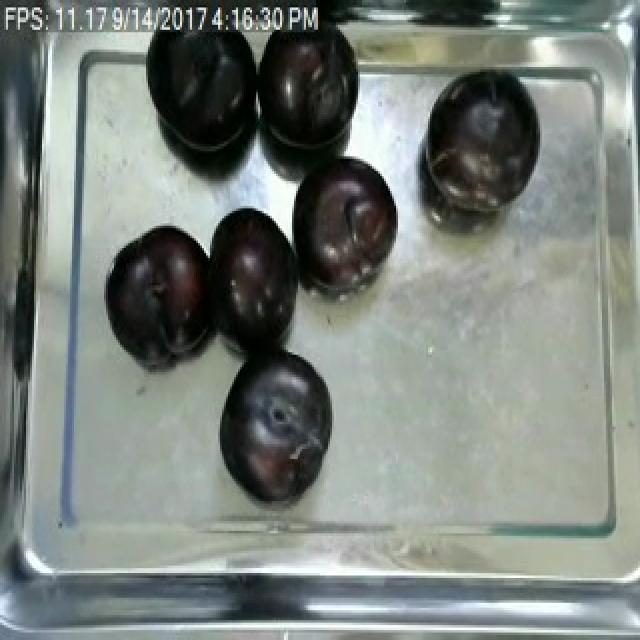Fruit: (416, 64, 542, 221), (284, 146, 410, 298), (214, 350, 336, 506), (138, 12, 262, 162), (100, 220, 216, 364), (200, 198, 302, 358)
